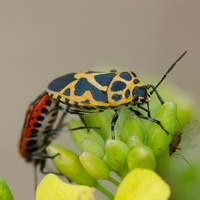insect: (19, 51, 186, 199), (48, 112, 83, 157)
